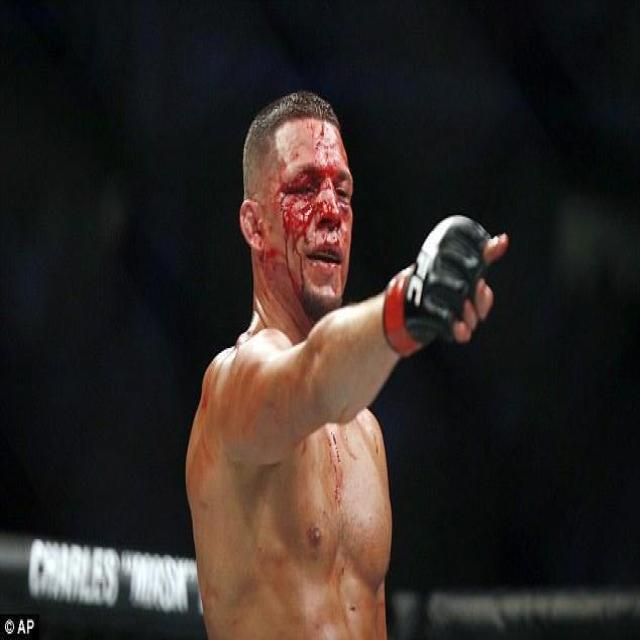flood: (279, 193, 349, 297)
